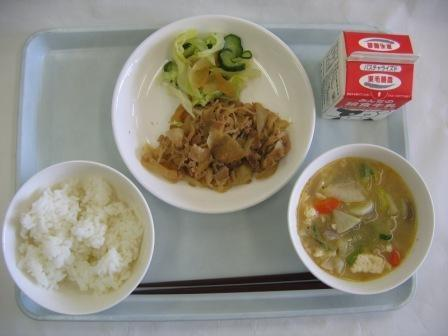Meat: (145, 100, 290, 185)
Milk: (319, 26, 421, 122)
Rice: (11, 166, 155, 310)
Salad: (157, 23, 264, 101)
Soups: (292, 156, 417, 285)
